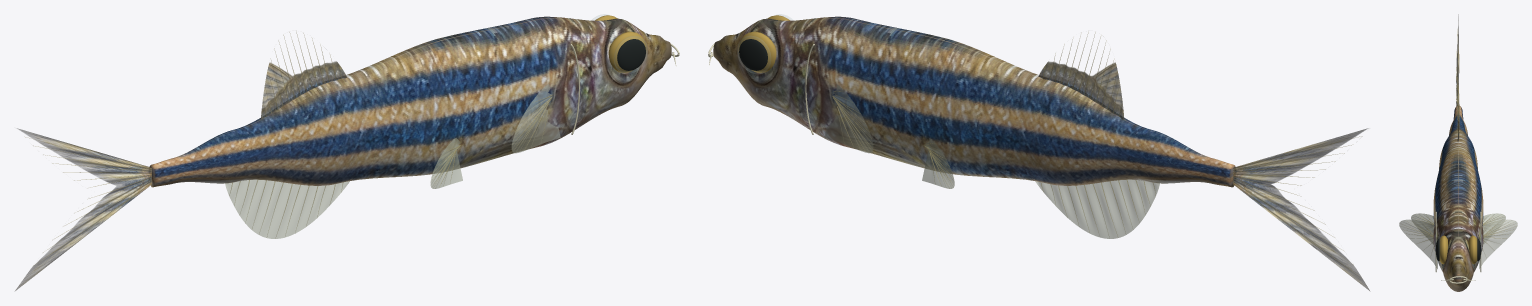
File: zebra-desktop.glb
3 views of the same model, side by side, from view 1: azimuth 30°, elevation 25°; view 2: azimuth 150°, elevation 25°; view 3: azimuth 270°, elevation 25° (orthographic). The views are drawn at different scales.
Parts seen in each view (by area): view 1: skin, anal, tail, dorsal-ray, dorsal, pectoral-left, pelvic-left, eye-pupil--1, eye-iris--1; view 2: skin, tail, anal, dorsal-ray, dorsal, pectoral-left, pelvic-left, eye-pupil--1, eye-iris--1; view 3: skin, pectoral-left, pelvic-left, dorsal-ray, eye-iris--1, operculum, tail, eye-pupil--1.
Boxes of the visible parts, x1,y1,x2,y2 form: skin: (149, 16, 671, 187); anal: (225, 179, 349, 238); tail: (15, 128, 151, 290); dorsal-ray: (25, 32, 552, 269); dorsal: (261, 61, 346, 118); pectoral-left: (511, 84, 560, 153); pelvic-left: (430, 138, 462, 188); eye-pupil--1: (617, 39, 645, 70); eye-iris--1: (595, 15, 646, 72); skin: (713, 16, 1235, 187); tail: (1233, 128, 1370, 291); anal: (1035, 179, 1159, 238); dorsal-ray: (832, 32, 1359, 276); dorsal: (1038, 61, 1124, 119); pectoral-left: (824, 84, 873, 153); pelvic-left: (922, 138, 954, 188); eye-pupil--1: (739, 39, 767, 70); eye-iris--1: (738, 15, 789, 72); skin: (1433, 105, 1483, 291); pectoral-left: (1399, 219, 1517, 268); pelvic-left: (1411, 213, 1505, 244); dorsal-ray: (1402, 29, 1513, 251); eye-iris--1: (1439, 235, 1477, 264); operculum: (1435, 212, 1481, 283); tail: (1456, 14, 1459, 105); eye-pupil--1: (1435, 239, 1481, 261).
Bounding box in the file's own units: 0.6032 × 0.1794 × 0.1425.
Materials: 11 (3 with a texture image).
